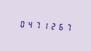four: (25, 18, 32, 30)
one: (41, 19, 48, 31)
seven: (33, 19, 40, 30), (65, 21, 72, 32)
six: (57, 20, 64, 32)
two: (49, 20, 56, 31)
zero: (17, 18, 24, 29)
